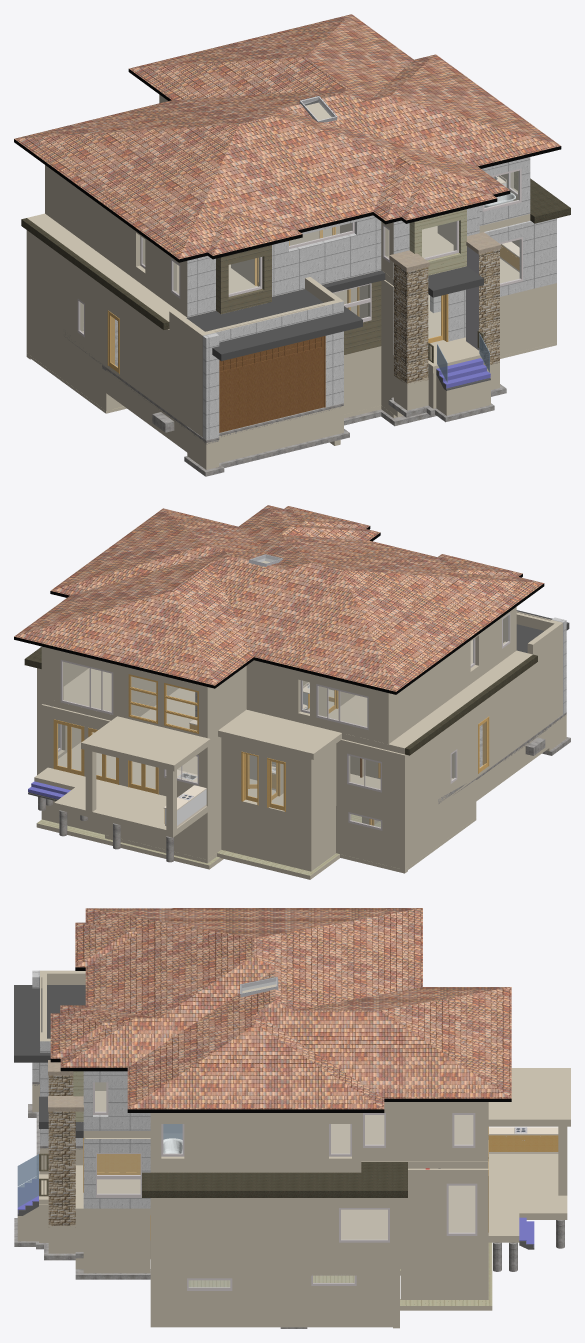
File: 56 Dallas Rd_Toronto_Nov 12 2018.fbx
3 renders of one model, top to bottom at view 1: azimuth 30°, elevation 25°; view 2: azimuth 150°, elevation 25°; view 3: azimuth 270°, elevation 25°, orthographic. The views are drawn at different scales.
Parts seen in each view (by area): view 1: Roof-Tile French Red, Paint-100, Ceiling-Tile 60x120, Wd-Walnut Horizontal, Paint-03, Stn-Ledgestone, Glass-Clear, Surf-Poured Concrete, Wd Siding Dark, Paving-Asphalt Dark, Paint-05, Mtl-Aluminium (+5 smaller); view 2: Paint-100, Roof-Tile French Red, Glass-Clear, Wd-Pine Horizontal, Mtl-Aluminium, Paint-05, Surf-Poured Concrete, Paving-Asphalt Dark, Wd Siding Medium, Wd-Pine Vertical, Surf-Plastic Laminate, Paint-03 (+1 smaller); view 3: Paint-100, Roof-Tile French Red, Glass-Clear, Paving-Asphalt Dark, Ceiling-Tile 60x120, Stn-Ledgestone, Paint-03, Mtl-Aluminium, Surf-Poured Concrete, Wd-Pine Horizontal, Paint-05, Wd Siding Medium (+4 smaller).
Part boxes in pixels (box(x1,y1,x2,y2)): Roof-Tile French Red: box(14, 14, 560, 259); Paint-100: box(26, 94, 556, 469); Ceiling-Tile 60x120: box(187, 157, 556, 440); Wd-Walnut Horizontal: box(219, 336, 325, 432); Paint-03: box(186, 100, 483, 361); Stn-Ledgestone: box(394, 249, 499, 383); Glass-Clear: box(79, 171, 520, 366); Surf-Poured Concrete: box(64, 221, 528, 476); Wd Siding Dark: box(216, 245, 483, 363); Paving-Asphalt Dark: box(21, 171, 570, 329); Paint-05: box(14, 69, 561, 262); Mtl-Aluminium: box(77, 168, 522, 337); Paint-100: box(34, 561, 566, 879); Roof-Tile French Red: box(14, 505, 543, 691); Glass-Clear: box(57, 615, 508, 827); Wd-Pine Horizontal: box(53, 676, 489, 825); Mtl-Aluminium: box(58, 613, 510, 830); Paint-05: box(14, 526, 544, 694); Surf-Poured Concrete: box(38, 692, 570, 862); Paving-Asphalt Dark: box(24, 647, 537, 755); Wd Siding Medium: box(37, 814, 380, 875); Wd-Pine Vertical: box(128, 674, 198, 733); Surf-Plastic Laminate: box(163, 682, 309, 827); Paint-03: box(516, 610, 569, 652); Paint-100: box(17, 970, 570, 1328); Roof-Tile French Red: box(50, 908, 511, 1109); Glass-Clear: box(95, 1082, 474, 1287); Paving-Asphalt Dark: box(142, 1162, 407, 1197); Ceiling-Tile 60x120: box(32, 970, 150, 1208); Stn-Ledgestone: box(48, 1075, 75, 1225); Paint-03: box(14, 985, 85, 1137); Mtl-Aluminium: box(93, 1082, 477, 1290); Surf-Poured Concrete: box(14, 1082, 564, 1328); Wd-Pine Horizontal: box(83, 1127, 558, 1240); Paint-05: box(50, 967, 511, 1112); Wd Siding Medium: box(73, 1071, 492, 1305).
Size of the model in its own units: 2007 by 2215 by 1165.
Materials: 30 (13 with a texture image).
